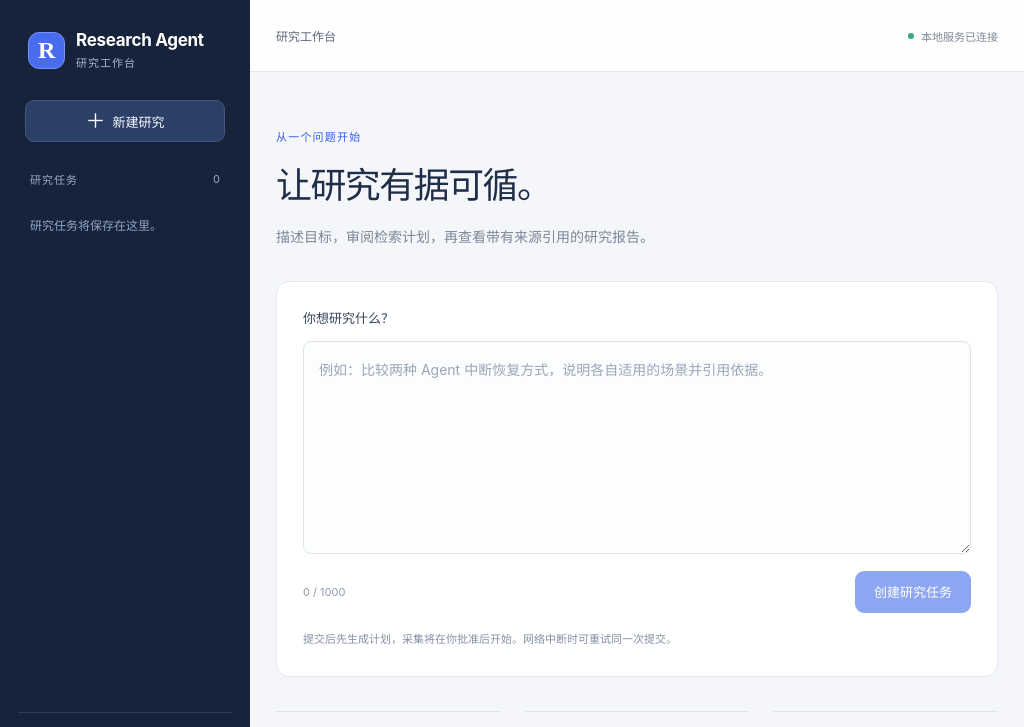
Test: 研究工作台 › 网络失败后重试保持同一创建标识，成功后只选择返回的任务
Type "alpha research" into the text box labelled "你想研究什么？" at (637, 447), box [303,341,971,554]
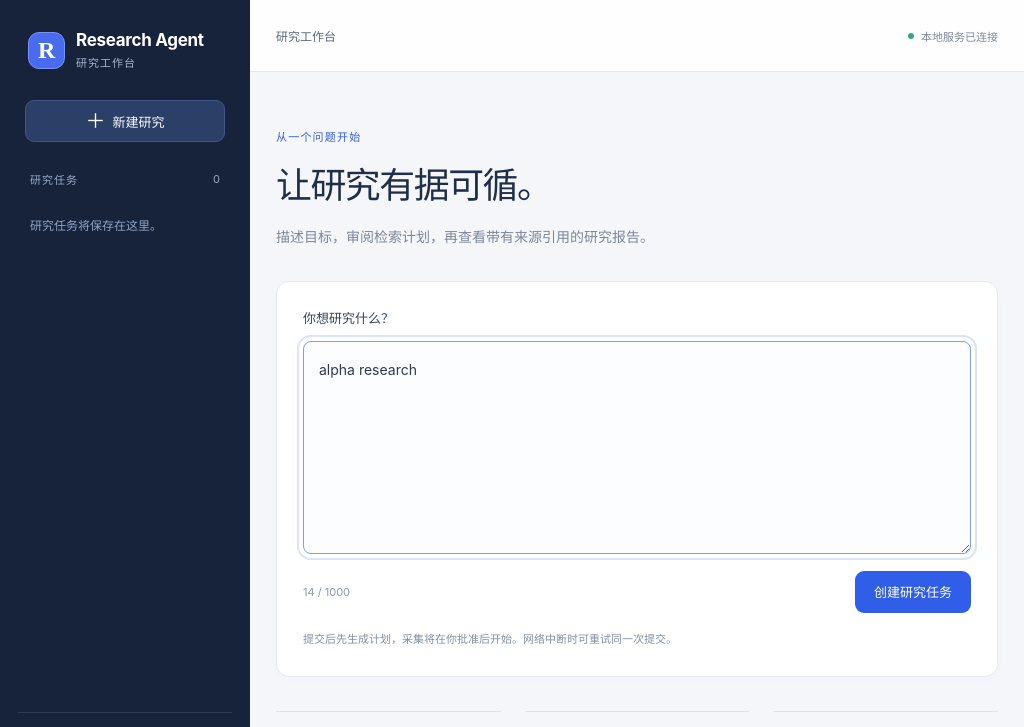
Click the button "创建研究任务" at (913, 592), box [855,571,971,613]
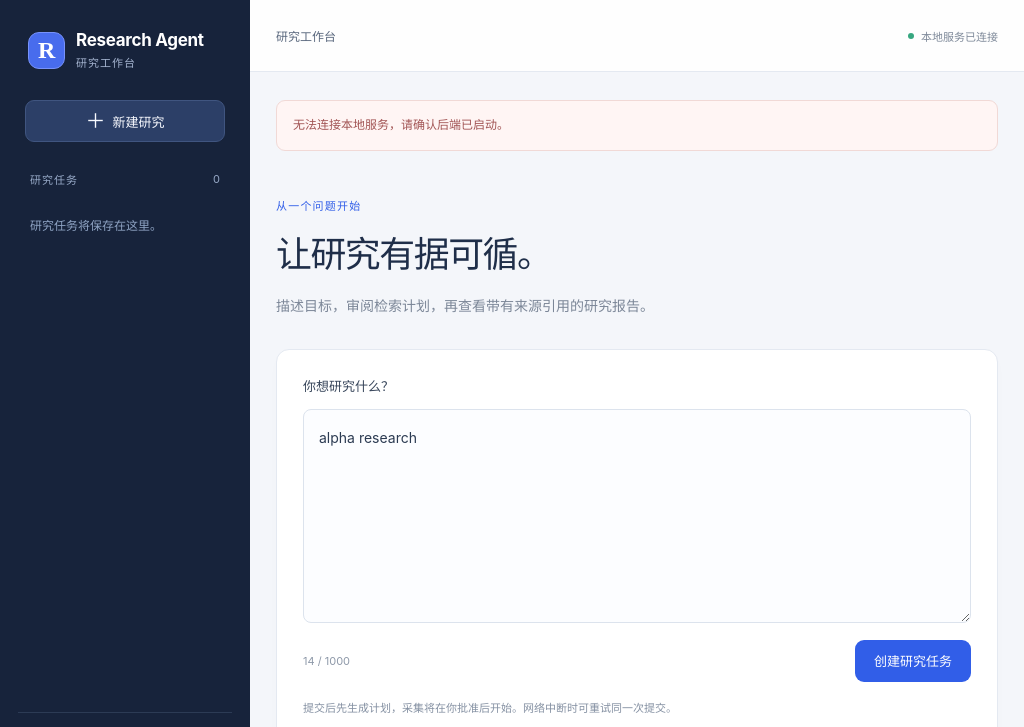
Now the message "无法连接本地服务，请确认后端已启动。" is shown, box [276,100,998,151]
Click the button "创建研究任务" at (913, 661), box [855,640,971,682]
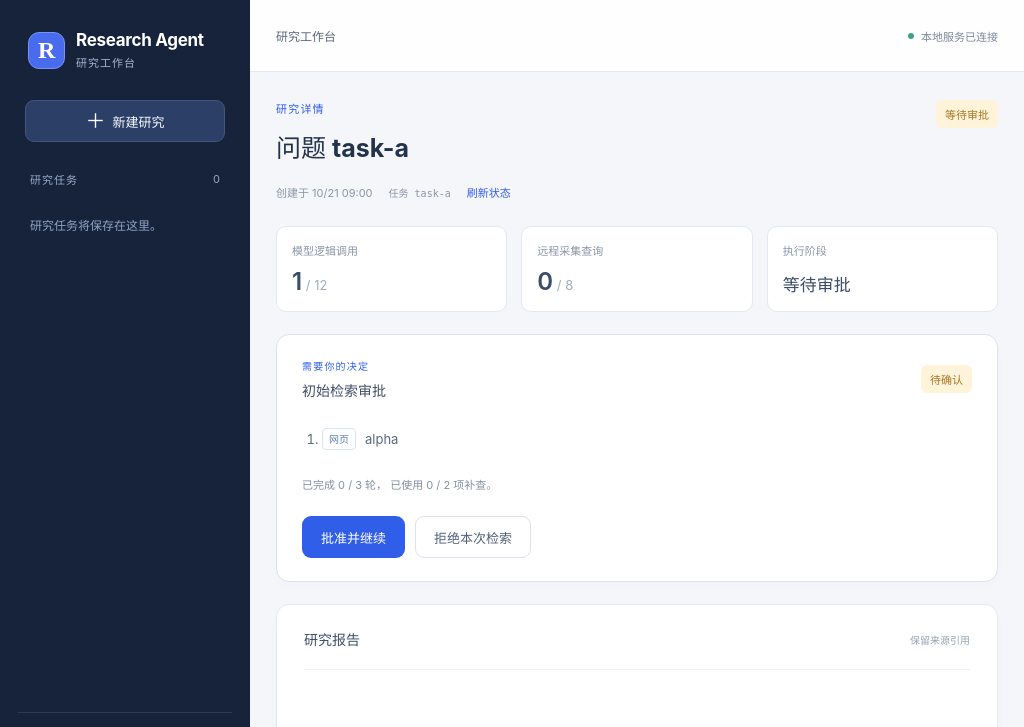
Now the heading "问题 task-a" is shown, box [276,128,409,168]
